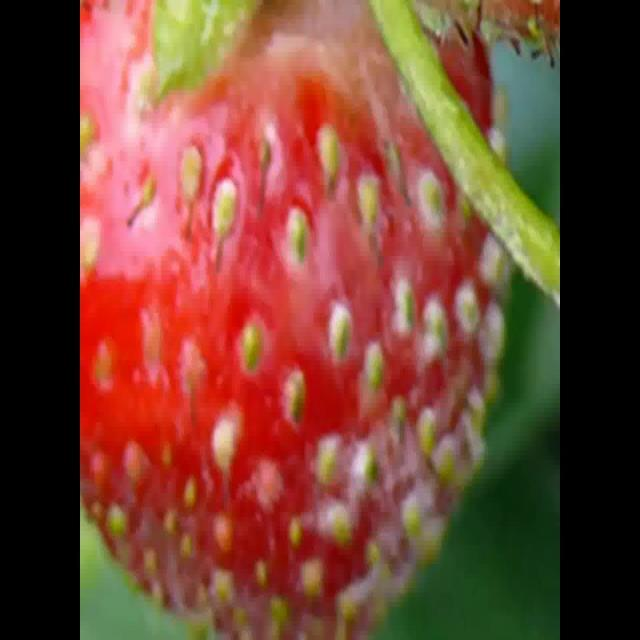Oído: (82, 4, 522, 636)
